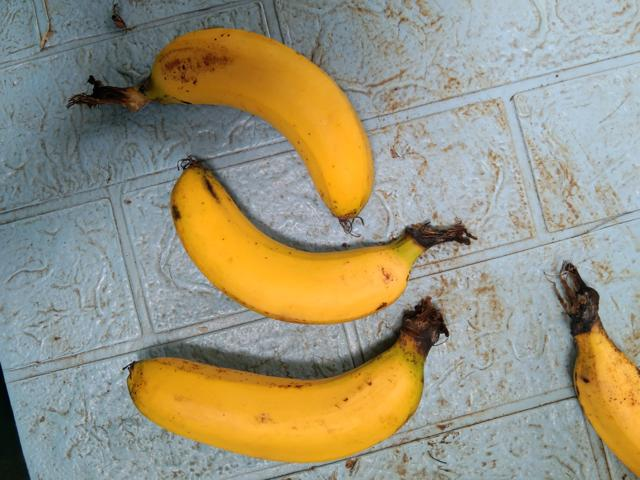freshripe: (161, 153, 442, 340), (115, 330, 457, 479), (147, 12, 383, 222), (530, 317, 639, 475)
